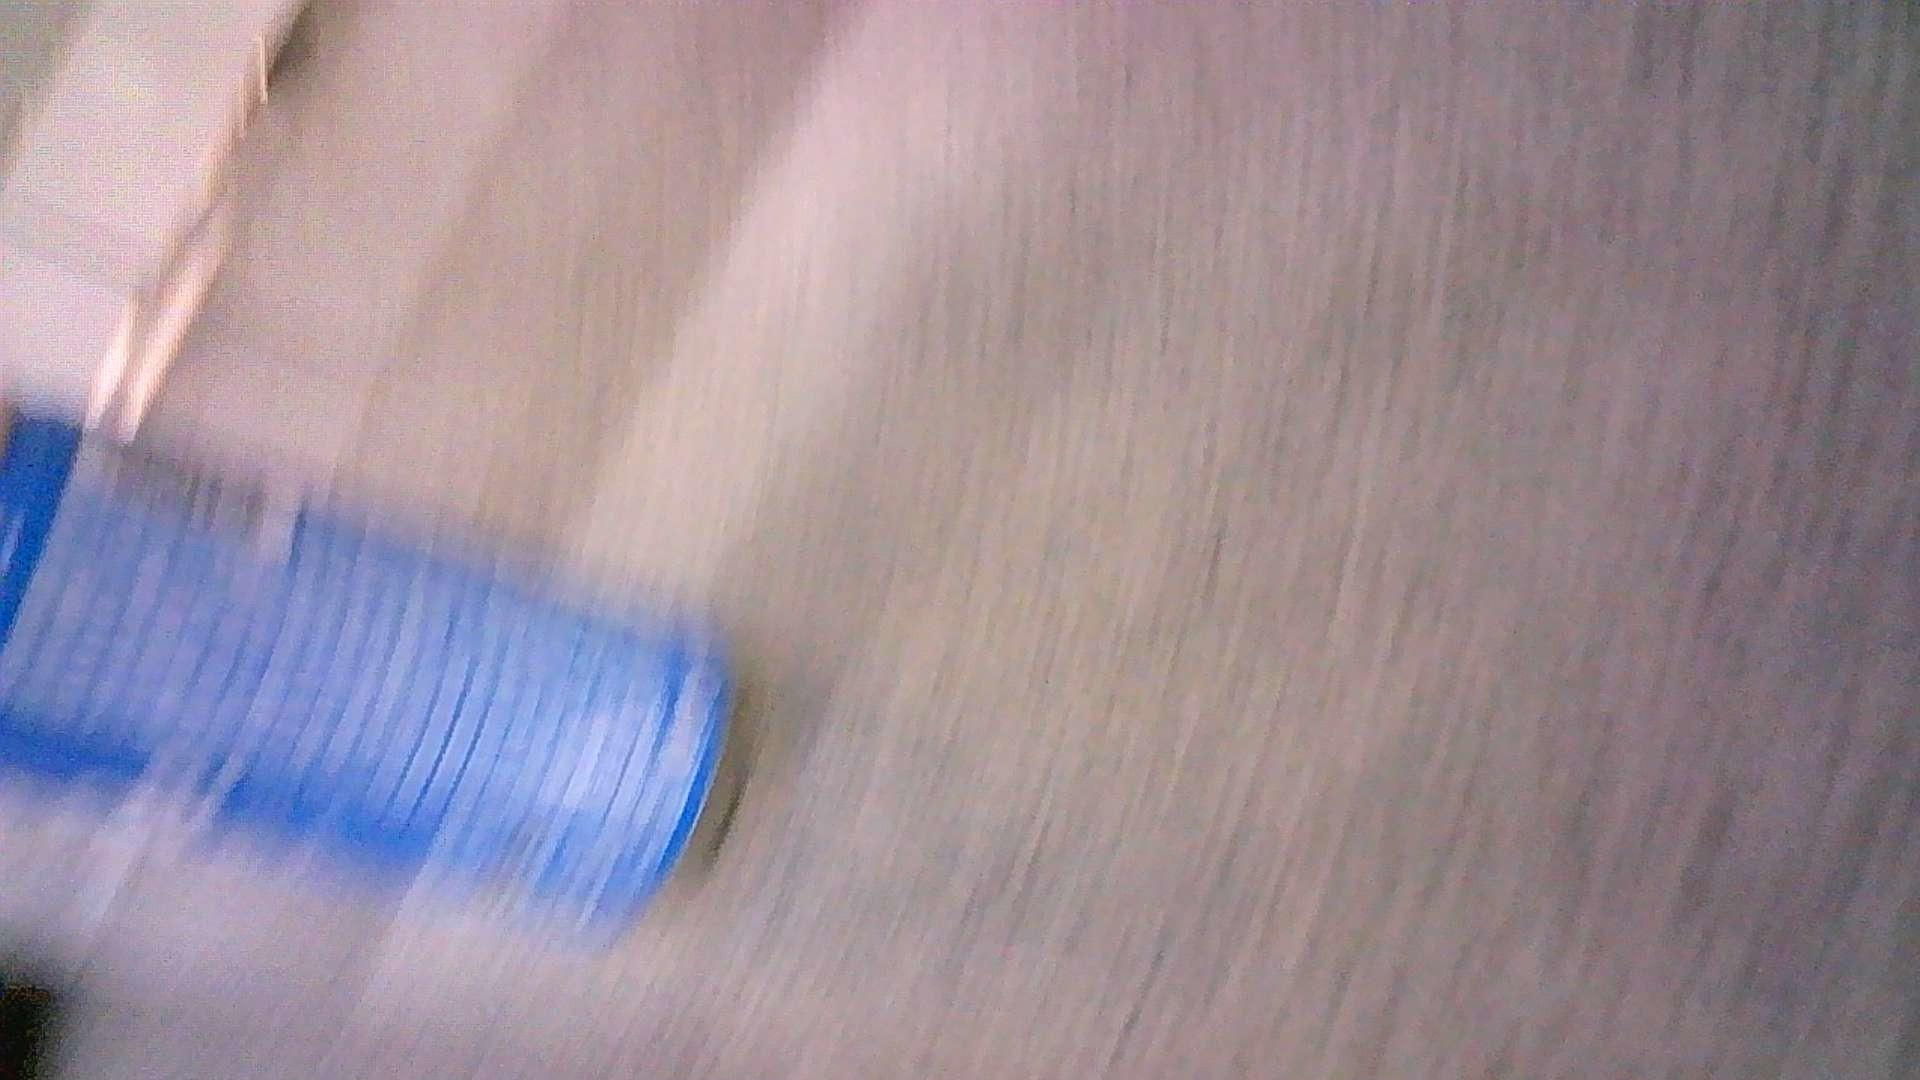letsbe: (1, 398, 745, 935)
